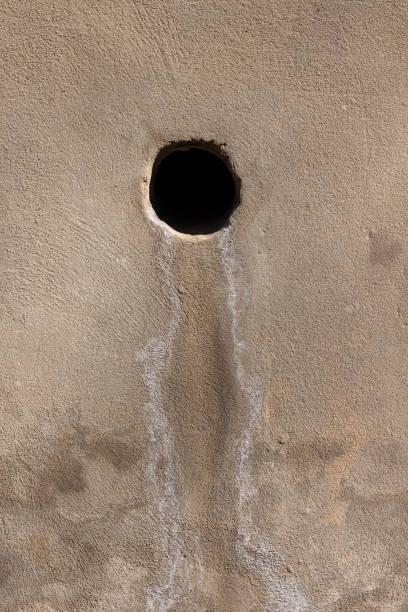Corrosion: (133, 230, 310, 612)
Spalling: (148, 137, 244, 236)
